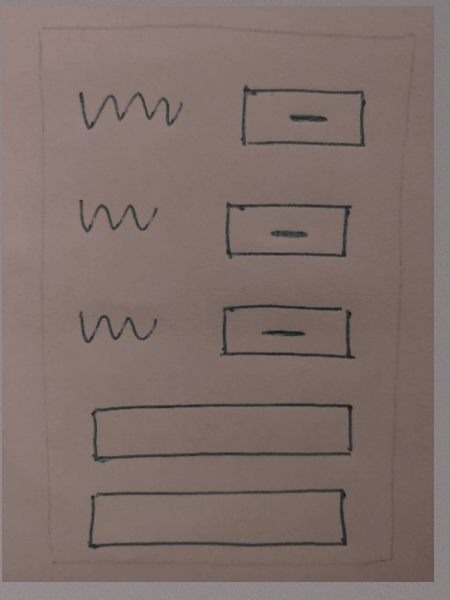button: (227, 75, 376, 161), (219, 296, 363, 372), (218, 194, 357, 267)
text: (78, 78, 189, 139), (74, 295, 163, 358), (70, 191, 160, 245)
text_input: (84, 396, 360, 470), (84, 485, 351, 551)
